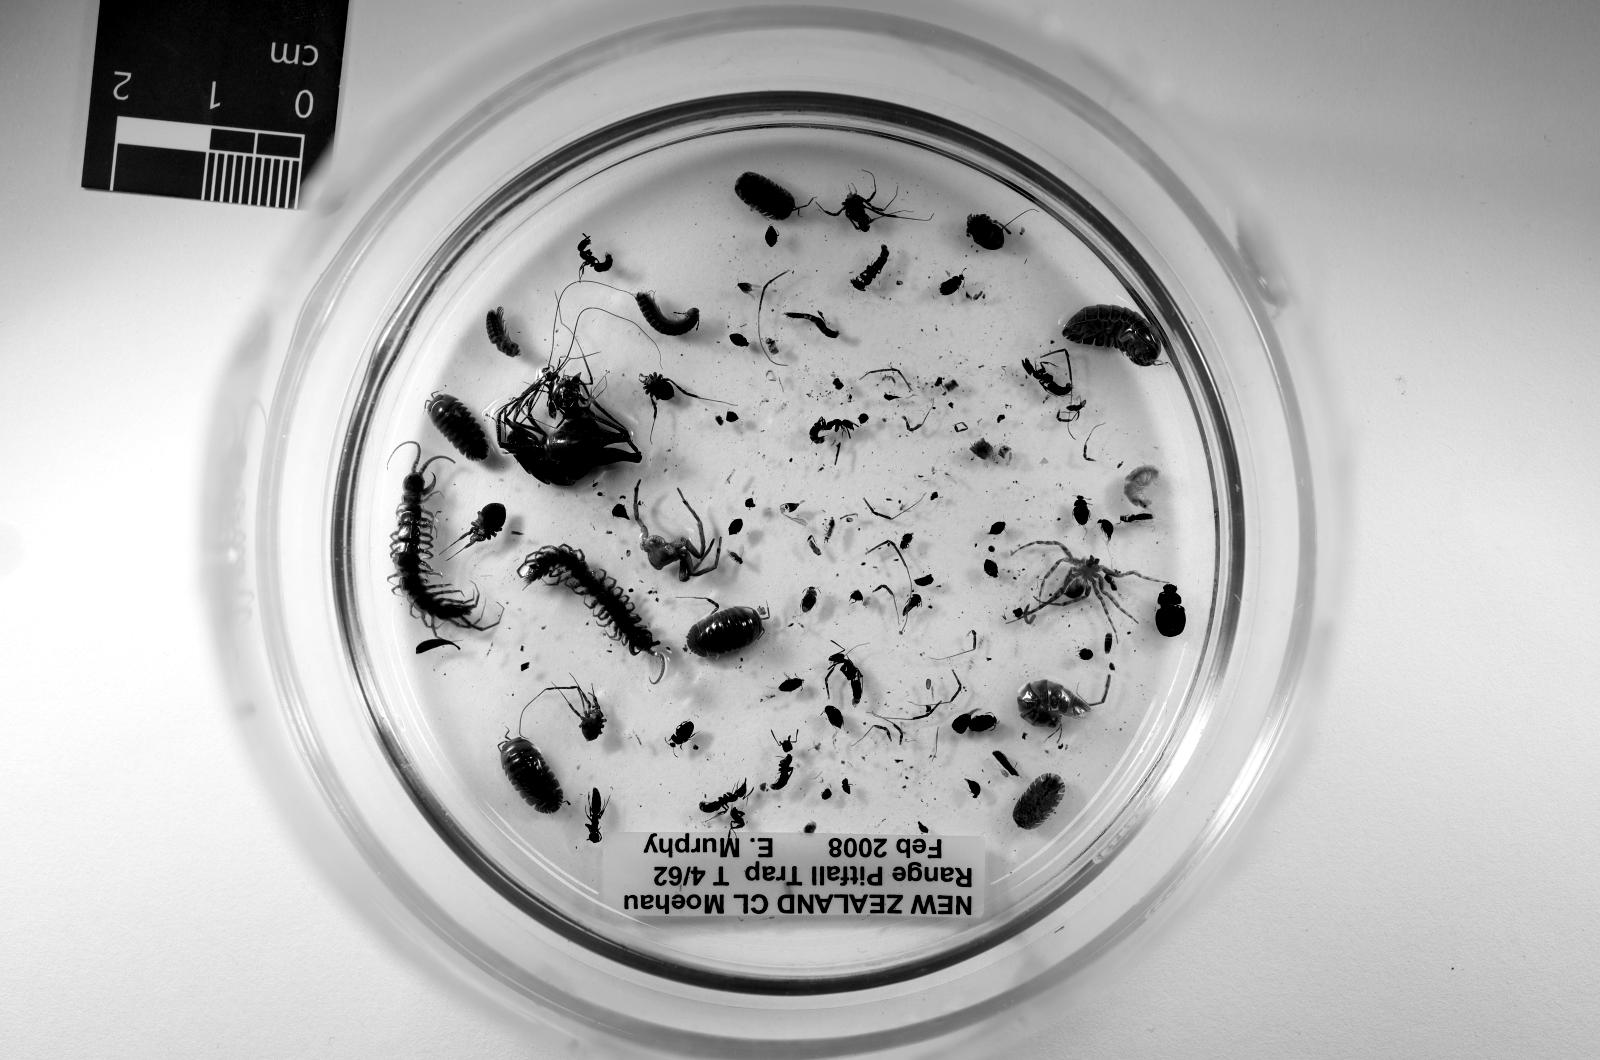amphipoda: (1125, 466, 1159, 509)
araneae: (1022, 540, 1150, 624), (634, 481, 722, 584)
chilopoda: (391, 441, 500, 637), (519, 543, 666, 683)
coleoptera: (1156, 584, 1188, 637), (669, 720, 694, 748), (1072, 494, 1091, 525), (966, 714, 997, 733), (825, 705, 844, 730), (941, 273, 962, 295), (800, 587, 816, 612), (778, 677, 803, 693), (728, 332, 750, 348), (1119, 512, 1153, 522), (984, 559, 1000, 578), (966, 779, 981, 798), (1097, 519, 1112, 537), (728, 519, 744, 534), (766, 227, 778, 245), (900, 534, 912, 550), (738, 283, 753, 295), (991, 522, 1006, 534)
diptera: (728, 543, 747, 565)
formicidae: (825, 649, 862, 705), (1022, 357, 1072, 398), (850, 245, 888, 292), (700, 779, 747, 814), (769, 736, 794, 792), (578, 236, 612, 276), (809, 419, 856, 444), (588, 789, 603, 842), (834, 444, 841, 463)
isopoda: (1062, 304, 1159, 366), (497, 736, 562, 814), (428, 394, 491, 460), (688, 606, 762, 658), (1019, 680, 1091, 727), (734, 171, 797, 220), (1012, 773, 1066, 829)
opiliones: (544, 683, 606, 742), (825, 193, 900, 230), (641, 373, 700, 419), (459, 503, 506, 547), (966, 214, 1009, 252)
orthoptera: (497, 385, 641, 484)
